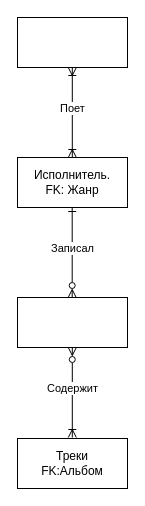
Some shapes in this 145 by 506 pixel diagram are drawn without their labels. Here are the shapes that lost their labels. From the top down, the box of each, then its label:
(16, 16, 128, 68): Жанр
(16, 296, 128, 348): Альбом FK:Исполнитель
